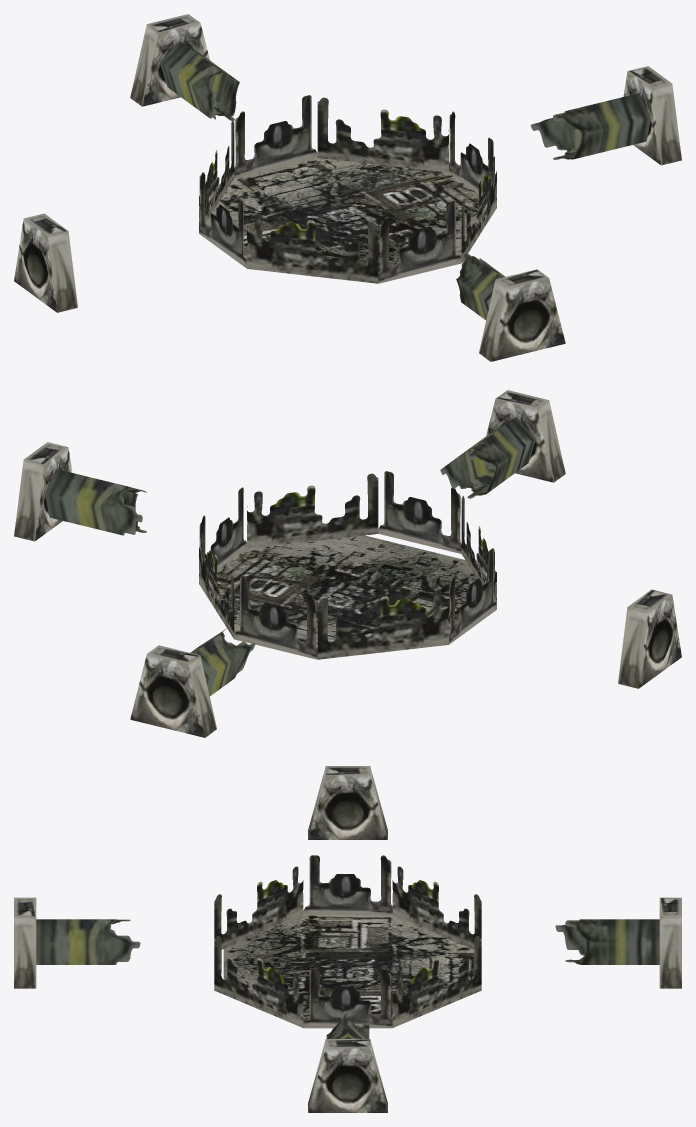
Rendered from fourwaypipe_dam_hdtex.glb.
3 renders of one model, top to bottom at view 1: azimuth 30°, elevation 25°; view 2: azimuth 150°, elevation 25°; view 3: azimuth 270°, elevation 25°, orthographic. The views are drawn at different scales.
Visible parts, largest first — view 1: fourway damaged; view 2: fourway damaged; view 3: fourway damaged.
Part boxes in pixels (bbox=[...]): fourway damaged: bbox=[14, 14, 681, 361]; fourway damaged: bbox=[14, 390, 681, 737]; fourway damaged: bbox=[14, 766, 681, 1112].
Size of the model in its own units: 25.56 by 2.73 by 25.56.
Materials: 1 (1 with a texture image).
